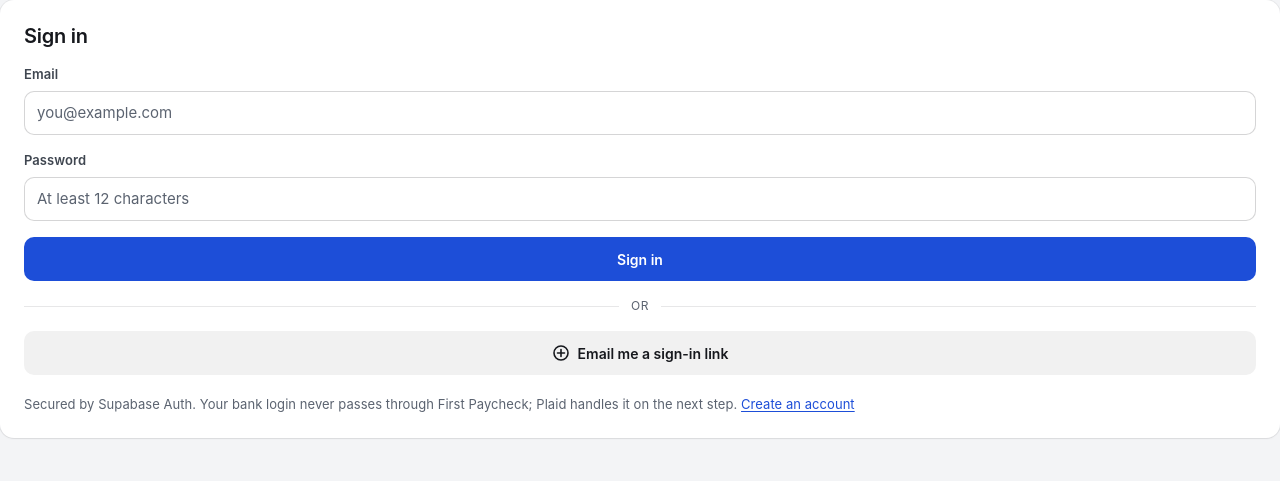
Test: AuthForm, sign in › validates a field when the person leaves it, then live as they fix it
Type "alex@" into the field labelled "Email" at (640, 113), box [24,90,1256,135]
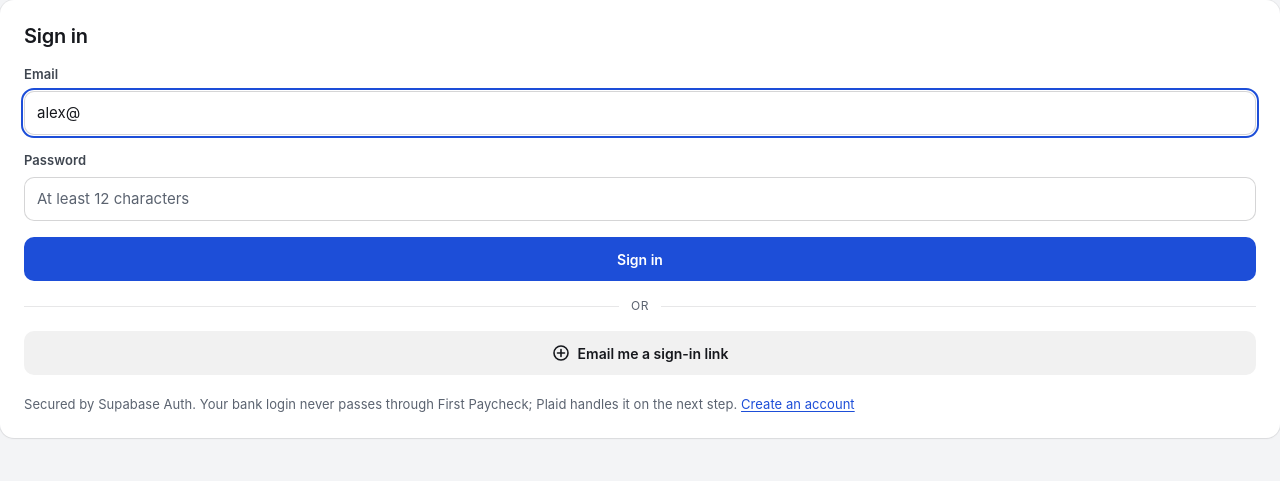
Check: the text "Enter an email address like you@example.com." is not shown
Press Tab
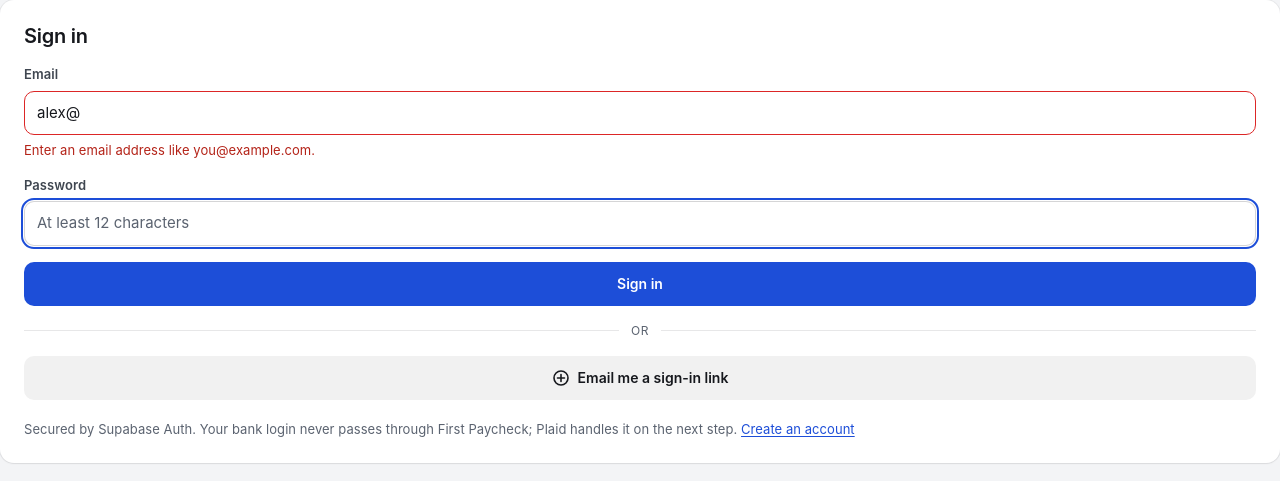
Type "example.com" into the field labelled "Email" at (640, 113), box [24,90,1256,135]
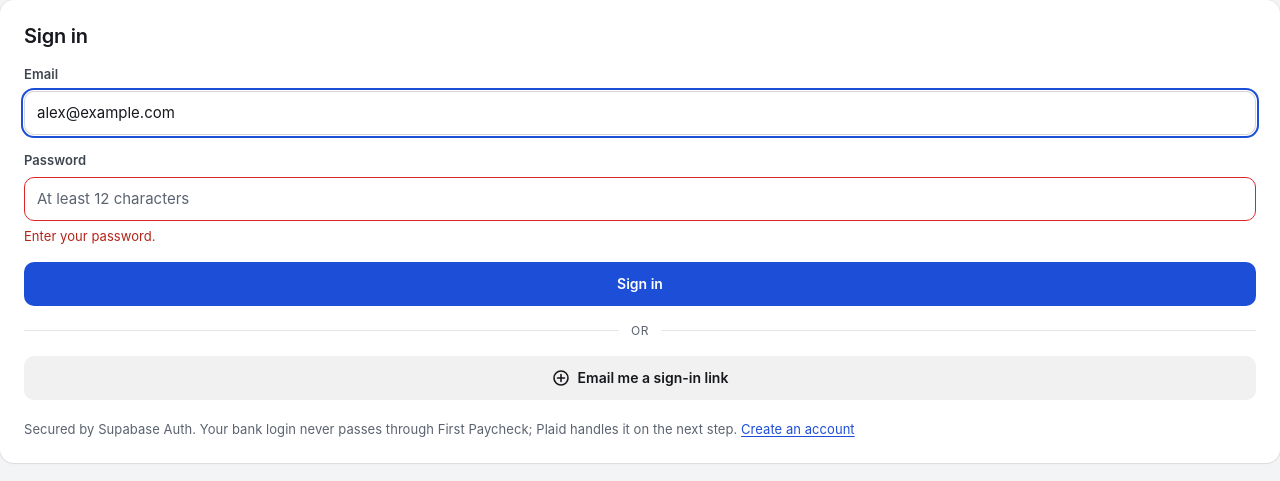
Check: the text "Enter an email address like you@example.com." is gone
